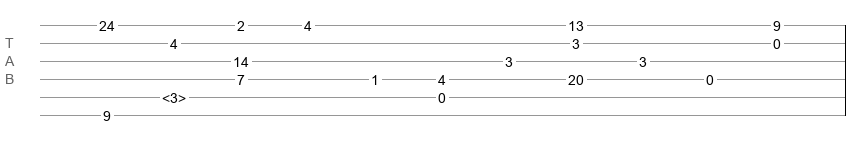0: (438, 90, 446, 100), (706, 72, 714, 82), (773, 36, 781, 46)
1: (371, 72, 379, 82)
13: (568, 18, 584, 28)
14: (233, 54, 249, 64)
2: (237, 18, 245, 28)
20: (568, 72, 584, 82)
24: (99, 18, 115, 28)
3: (505, 54, 513, 64), (572, 36, 580, 46), (639, 54, 647, 64)
4: (170, 36, 178, 46), (304, 18, 312, 28), (438, 72, 446, 82)
7: (237, 72, 245, 82)
9: (103, 108, 111, 118), (773, 18, 781, 28)
harmonic: (162, 90, 186, 100)
